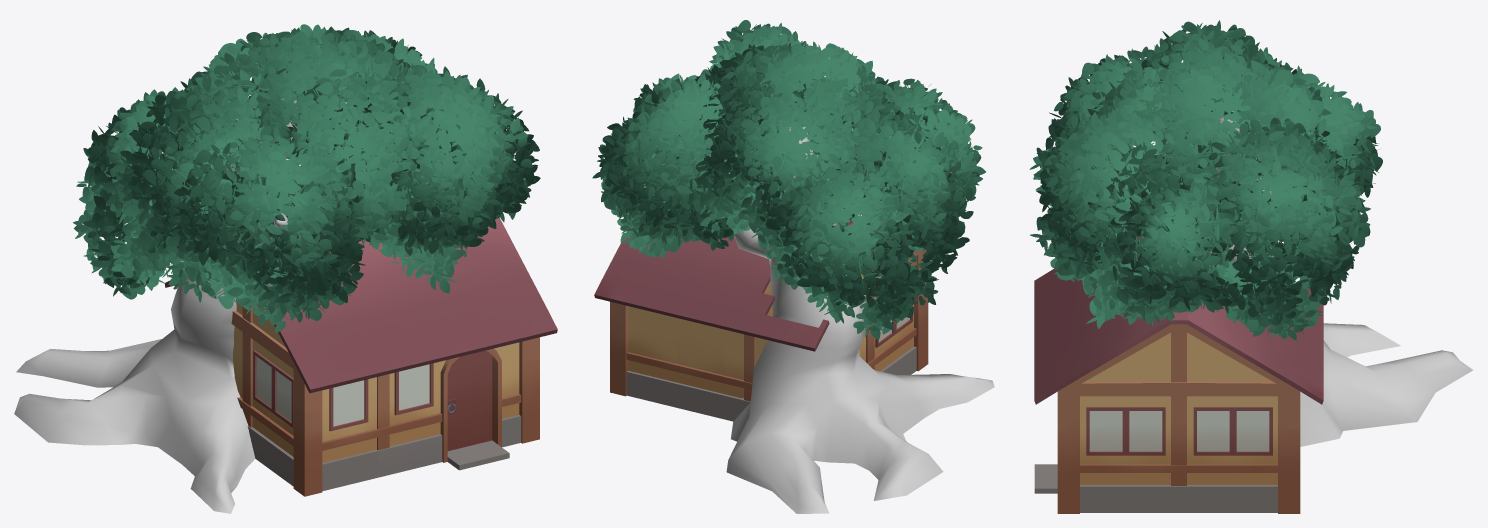
The model's file is house_exterior_alt_leaves.fbx.
The picture shows the model from 3 angles, left to right: view 1: azimuth 30°, elevation 25°; view 2: azimuth 150°, elevation 25°; view 3: azimuth 270°, elevation 25°; orthographic projection. The views are drawn at different scales.
Visible parts, largest first — view 1: leaves, house_exterior; view 2: leaves, house_exterior; view 3: leaves, house_exterior.
Boxes of the visible parts, x1,y1,x2,y2 form: leaves: [73, 24, 540, 333]; house_exterior: [14, 97, 557, 513]; leaves: [592, 20, 985, 339]; house_exterior: [594, 121, 994, 513]; leaves: [1029, 20, 1382, 340]; house_exterior: [1034, 115, 1473, 513].
Bounding box in the file's own units: 2090 × 1912 × 1946.
